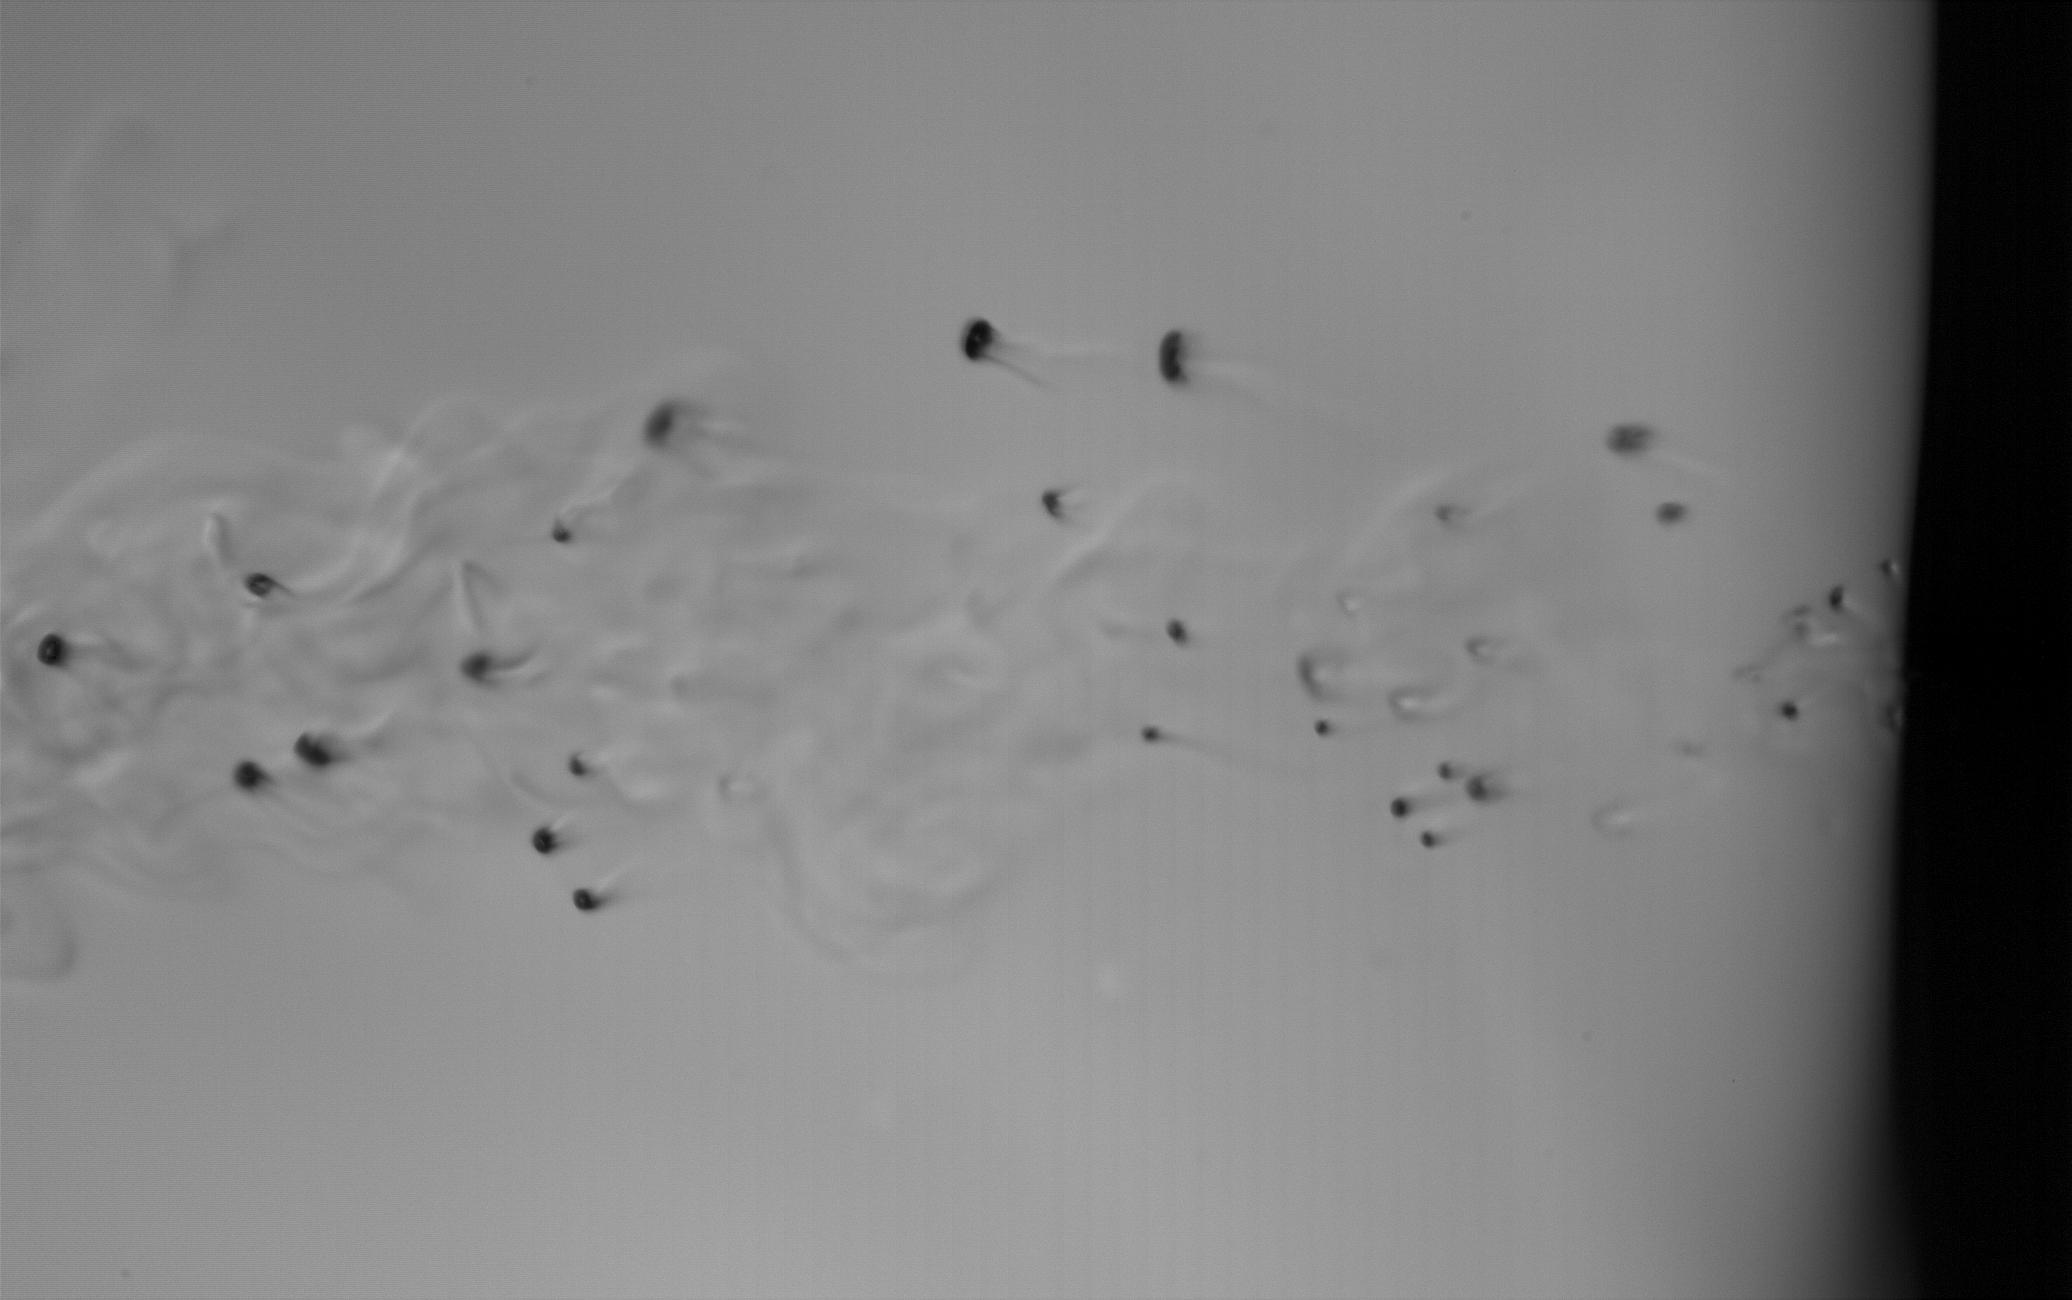Blurry: (234, 758, 278, 794), (243, 571, 289, 598), (1464, 773, 1494, 804), (552, 515, 570, 544)
ClassicalEvaporation: (1308, 713, 1454, 786), (1136, 723, 1165, 753), (1416, 824, 1443, 851), (1826, 586, 1853, 613), (1386, 798, 1412, 825), (1777, 696, 1803, 723)
TransitionalMixing: (1154, 322, 1196, 386), (954, 315, 999, 371), (639, 395, 686, 449), (290, 729, 343, 774), (1603, 419, 1659, 455), (1037, 481, 1070, 529), (528, 824, 560, 860), (36, 632, 67, 666), (461, 647, 491, 681), (1163, 614, 1192, 647), (1653, 502, 1689, 524), (572, 887, 600, 914), (567, 752, 591, 779)
